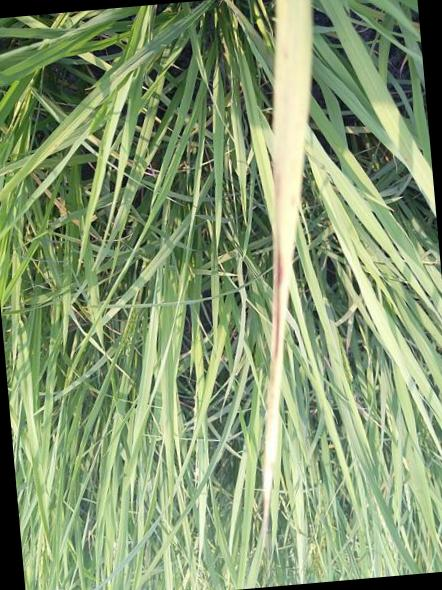Leaf Blight: (261, 0, 312, 501)
